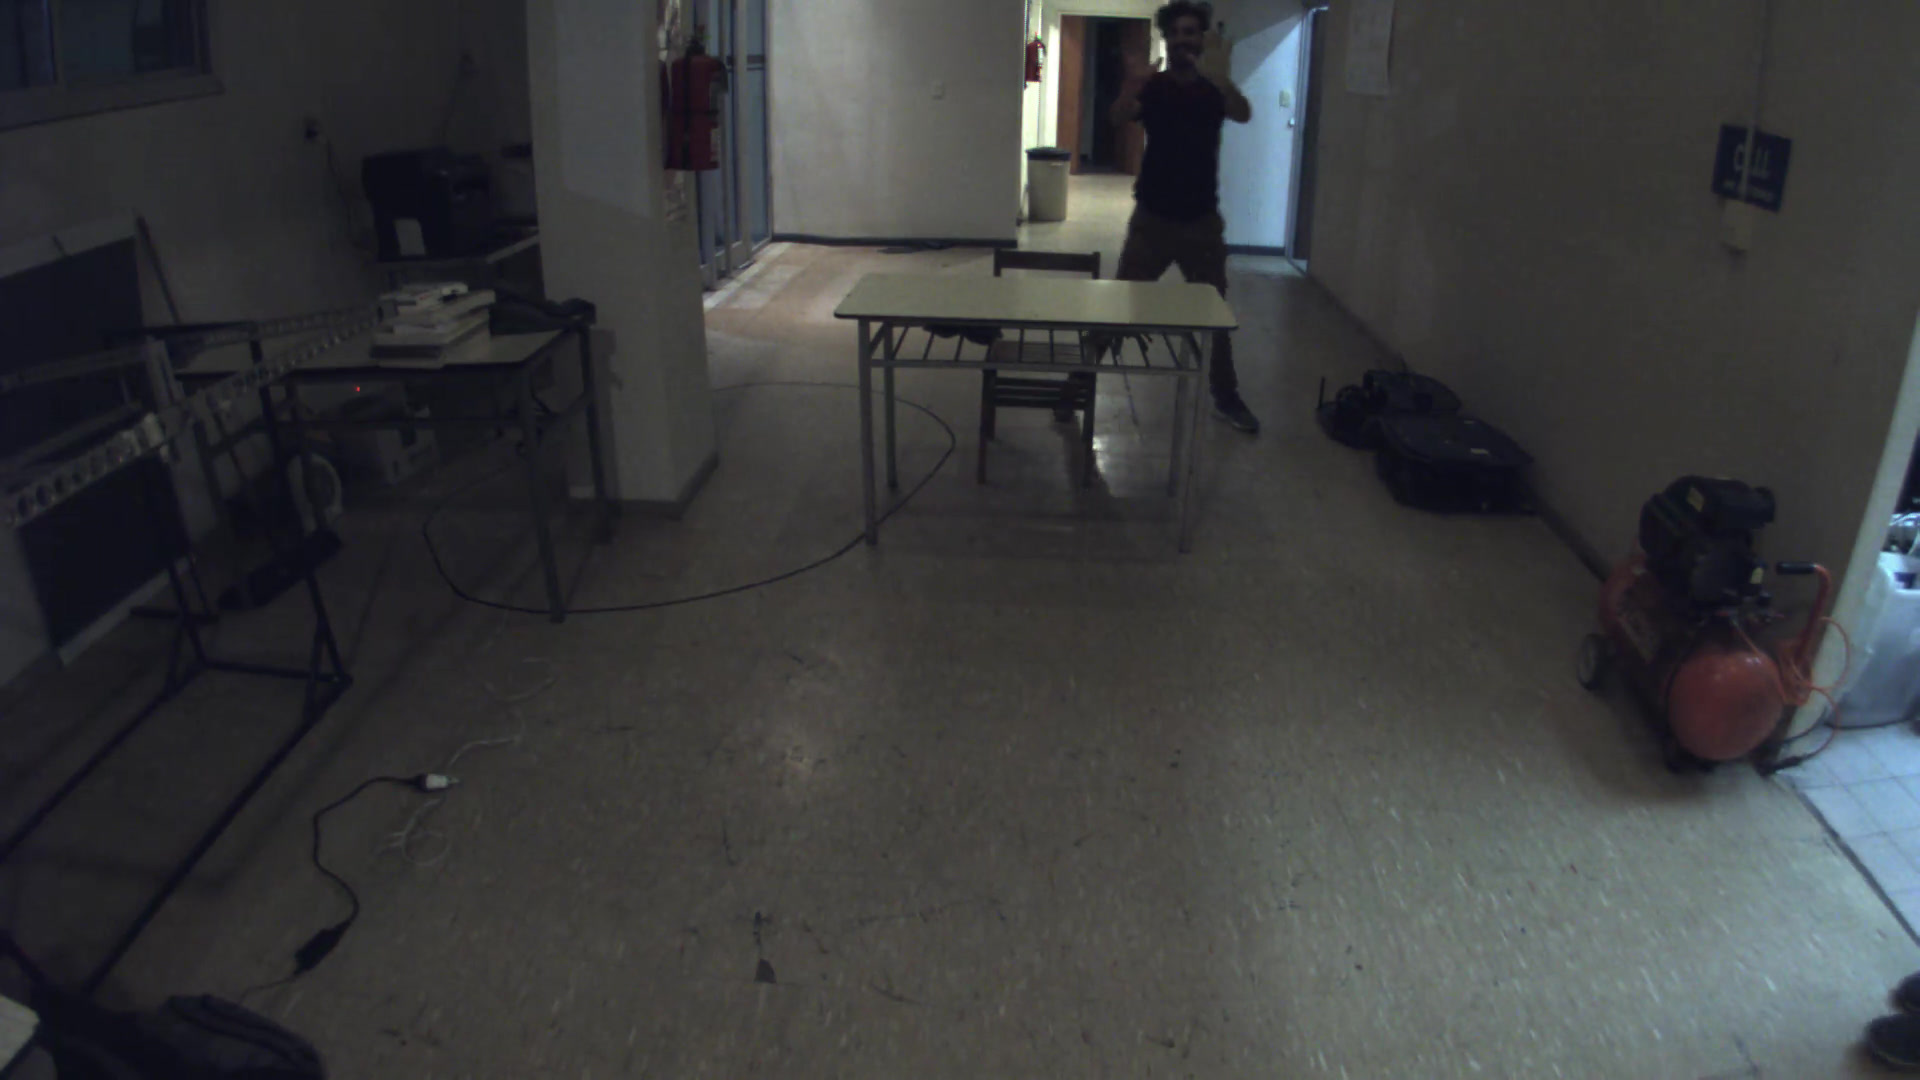hand: (1185, 22, 1249, 86), (1112, 30, 1164, 79)
